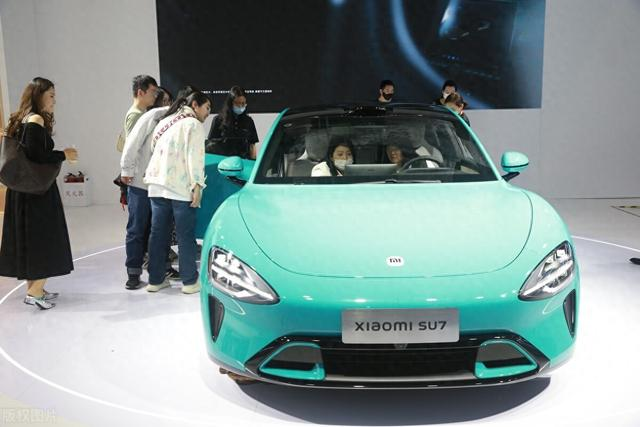su7: (205, 97, 581, 402)
